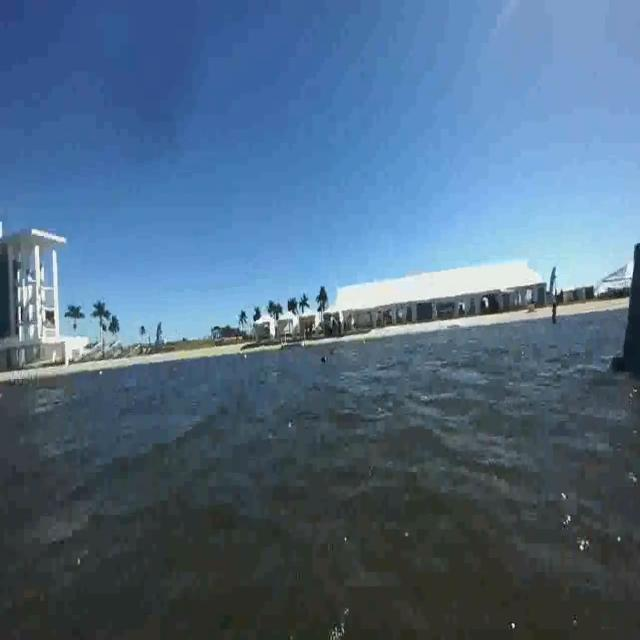green-column-buoy: (610, 232, 640, 380)
